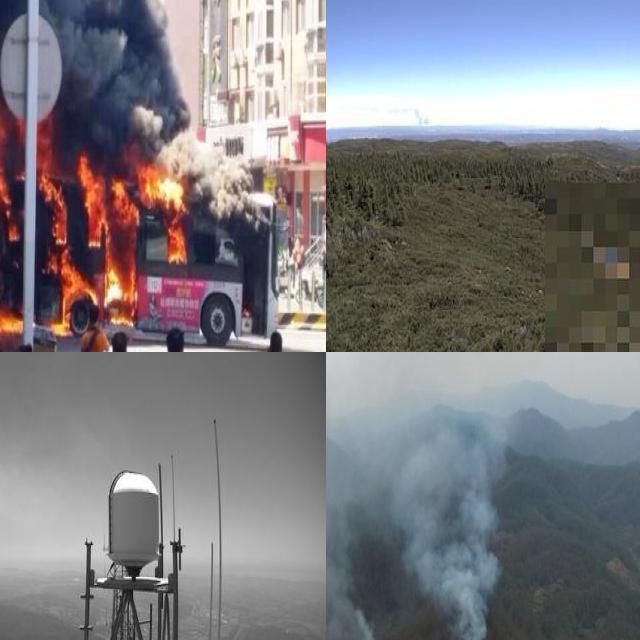fire: (0, 61, 200, 333)
smoke: (0, 0, 251, 207), (349, 352, 518, 640), (326, 387, 377, 640), (387, 102, 435, 127)
